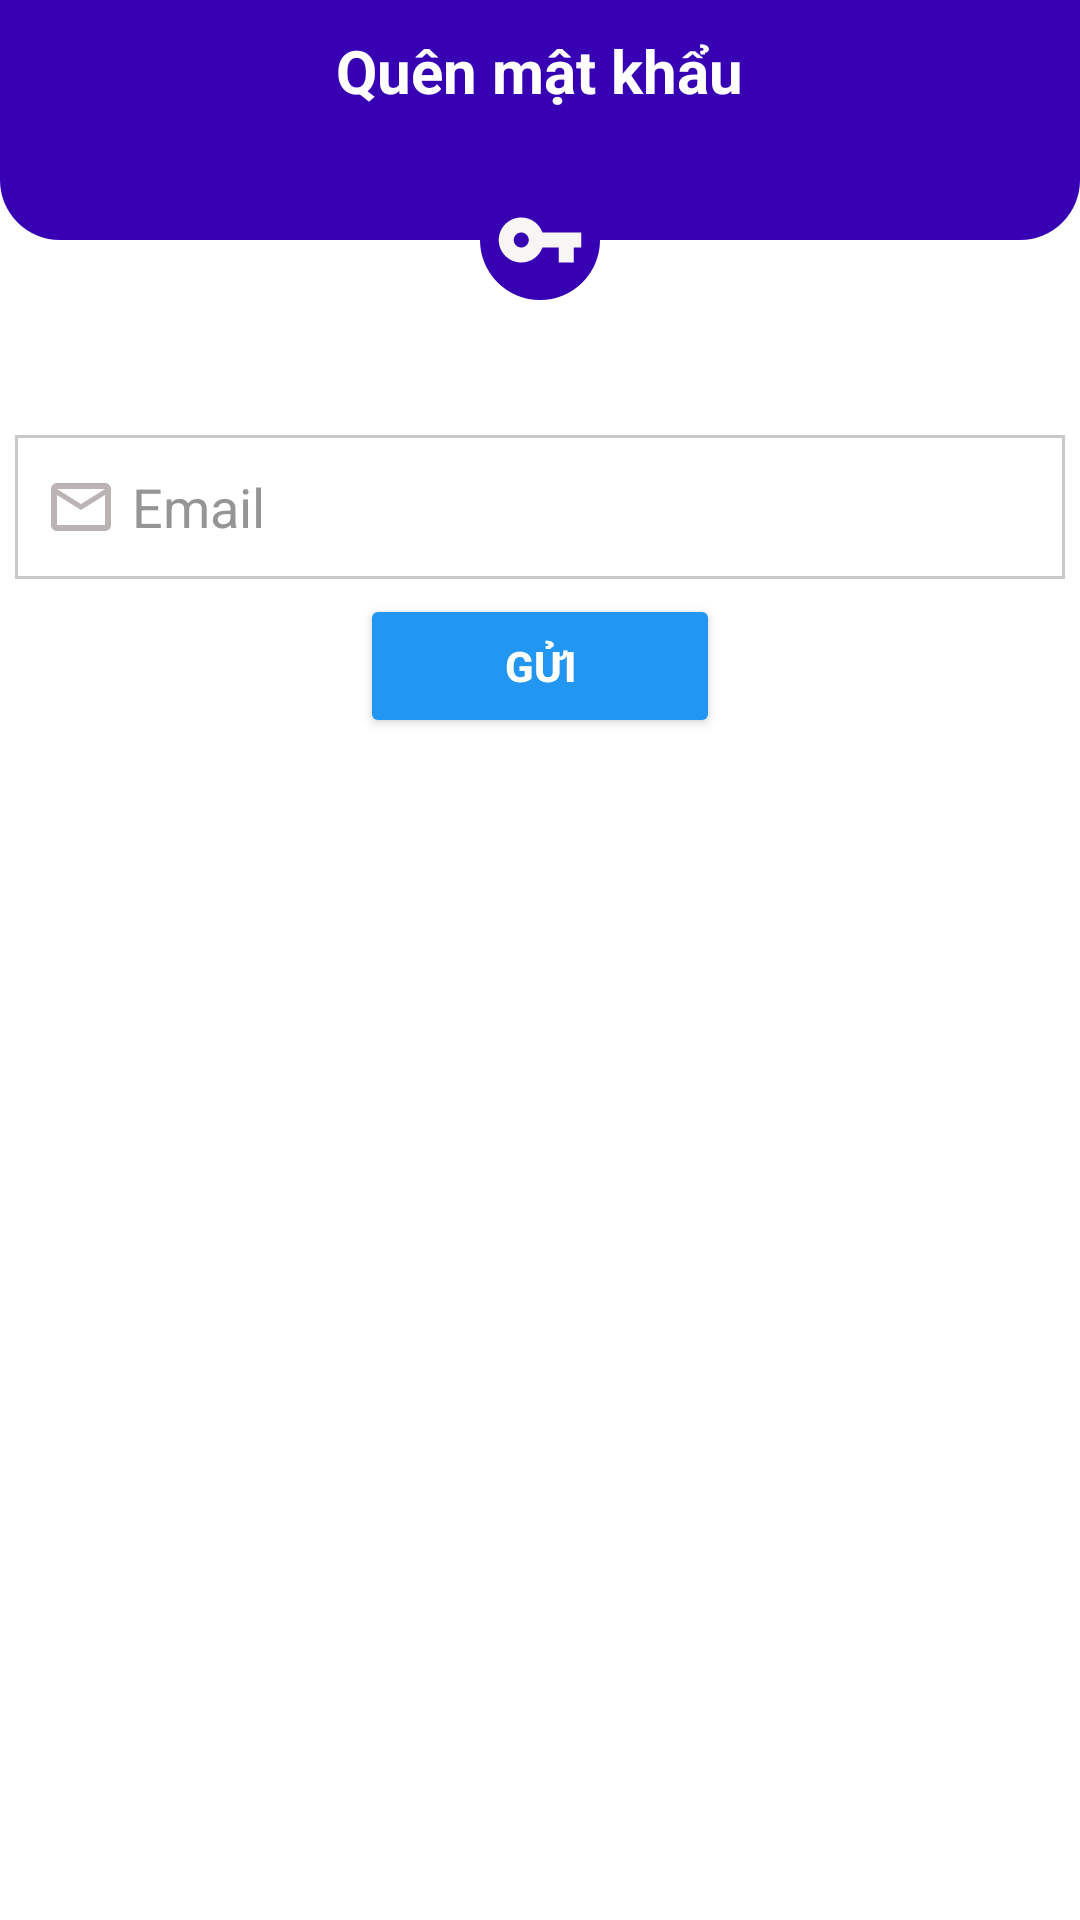

Point at icon controls on the screen. Image size 1080px×1920px, points as (x,y).
key: (540,240)
